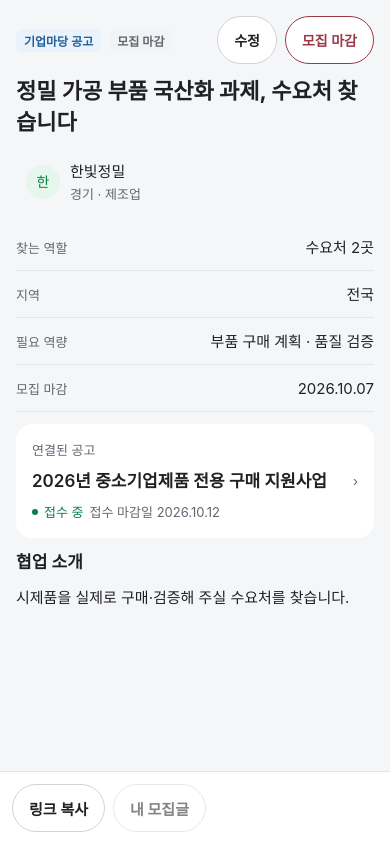
Test: the owner closes recruitment only after explicit confirmation and loses management actions after success
Click the button "모집 마감" at [329, 40], box [285, 16, 374, 64]
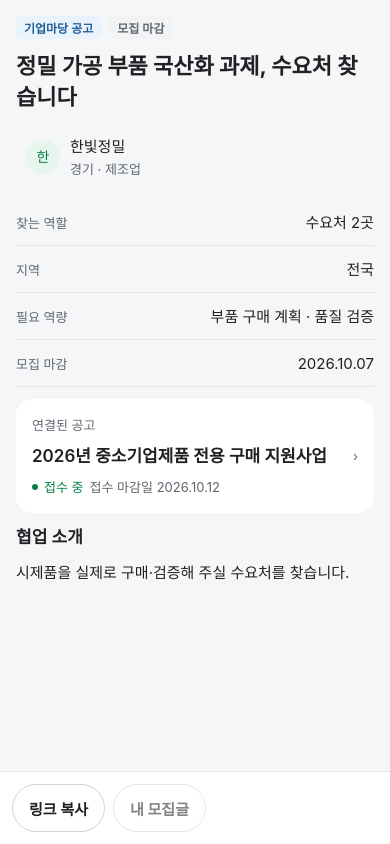
Check: the button "수정" is gone
